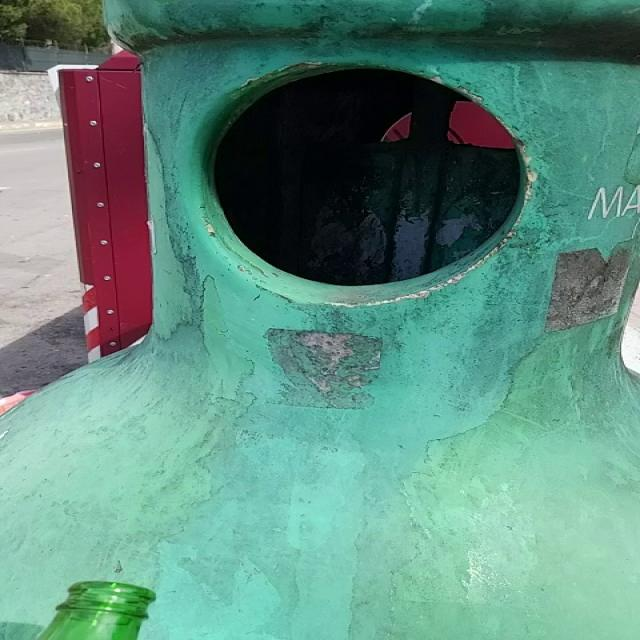glass: (37, 584, 155, 640)
